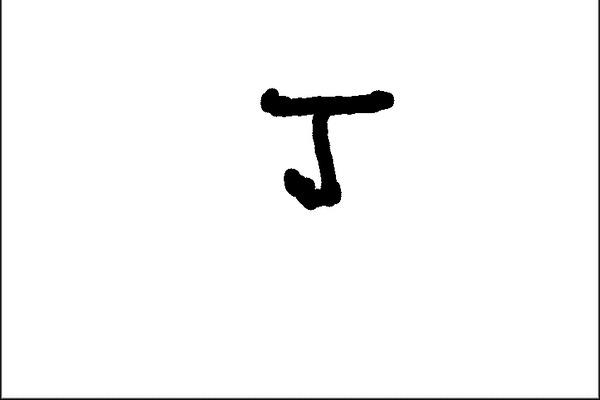J: (254, 76, 400, 218)
